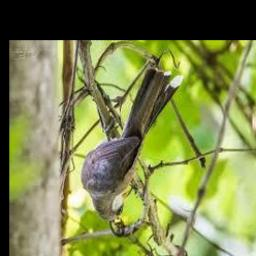Cuckoo: (81, 66, 185, 221)
